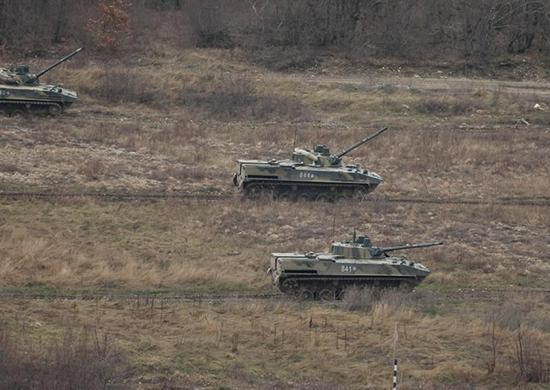tank: (266, 234, 444, 302), (232, 126, 387, 199), (0, 46, 86, 119)
